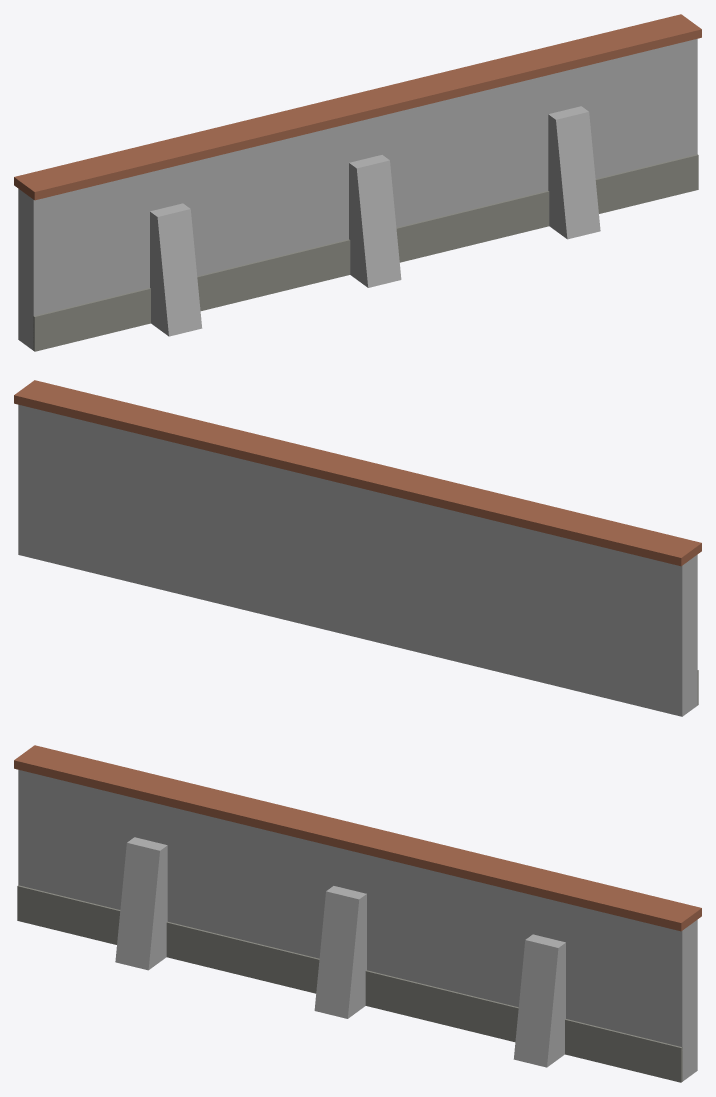
File: SM_Tapia_v4_Contrafuertes_LOD0.fbx
3 views of the same model, one above another, from view 1: azimuth 30°, elevation 25°; view 2: azimuth 150°, elevation 25°; view 3: azimuth 330°, elevation 25° (orthographic).
Visible parts, largest first — view 1: SM_bloques.viveres_nules_v9_LOD0; view 2: SM_bloques.viveres_nules_v9_LOD0; view 3: SM_bloques.viveres_nules_v9_LOD0.
Part boxes in pixels (x1,y1,x2,y2): SM_bloques.viveres_nules_v9_LOD0: (14, 14, 701, 351); SM_bloques.viveres_nules_v9_LOD0: (14, 380, 701, 716); SM_bloques.viveres_nules_v9_LOD0: (14, 745, 701, 1082).
Bounding box in the file's own units: 10.05 × 2.32 × 0.97.
